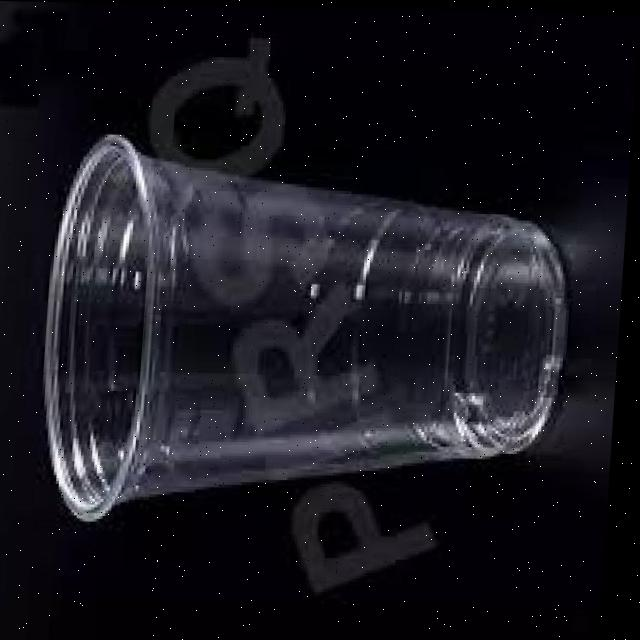cup: (4, 117, 592, 532)
